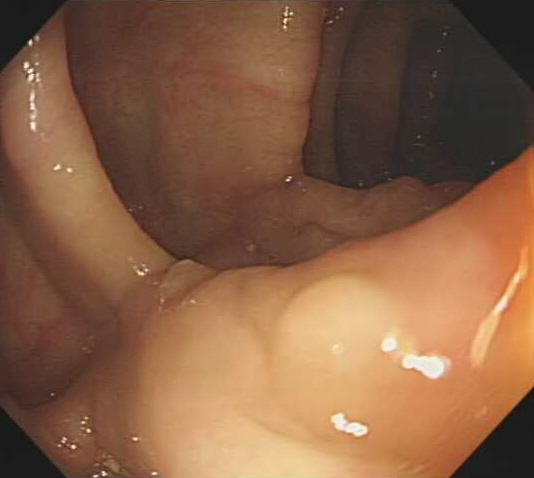adenoma: (277, 270, 393, 361)
